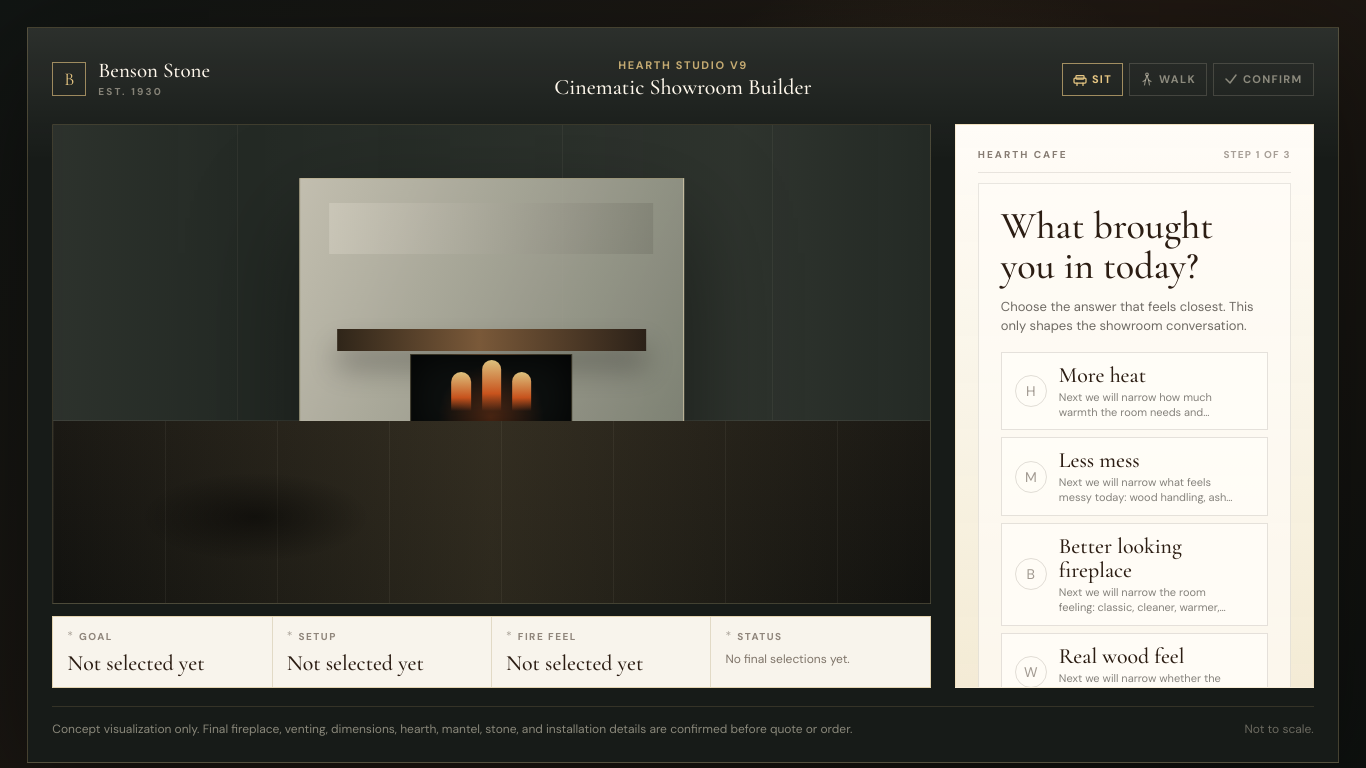
Test: Hearth Studio V9 visual shell › activates the second context prompt after a goal is selected
The width and height of the screenshot is (1366, 768).
Click the button "More heat" at (1134, 391), box [1001,352,1268,430]
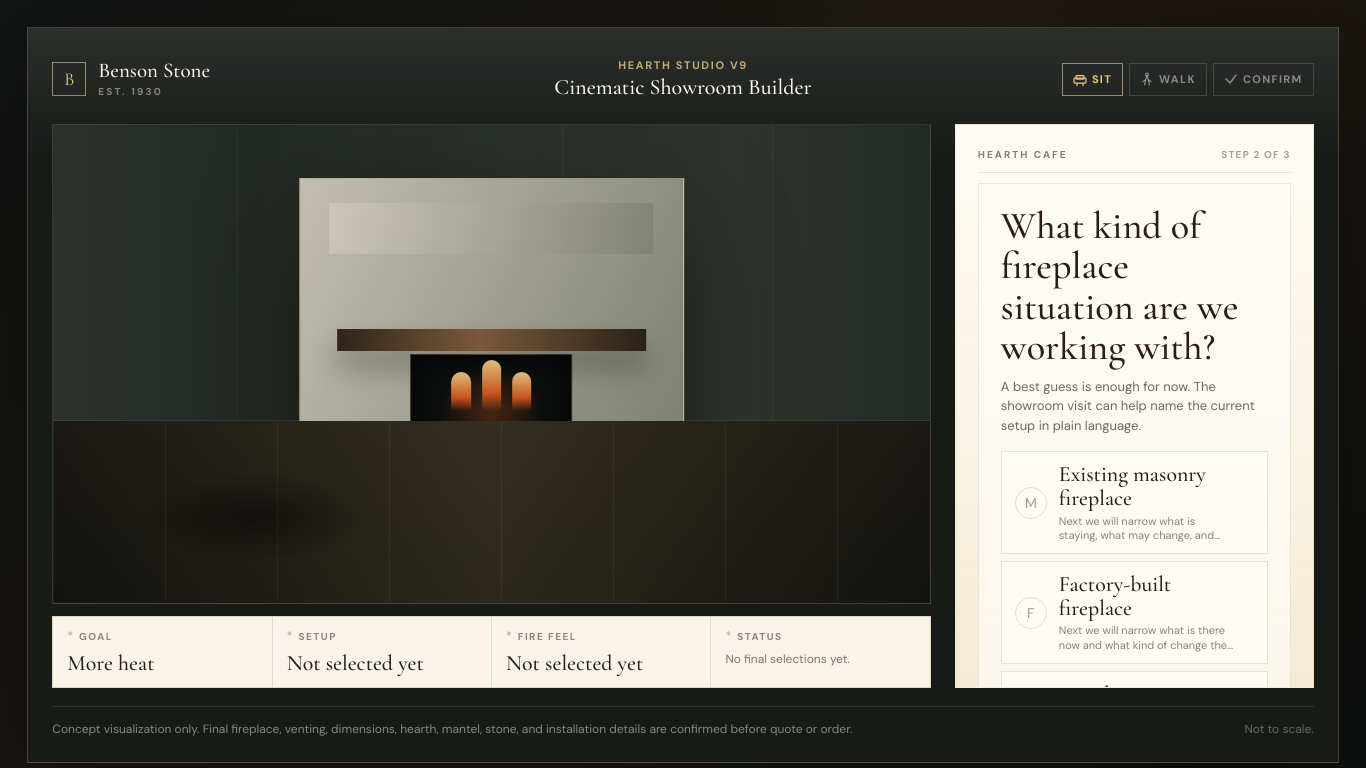
Check: the heading "What kind of fireplace situation are we working with?" is shown, box [1001,206,1268,367]
Check: the button "Existing masonry fireplace" is shown, box [1001,451,1268,554]
